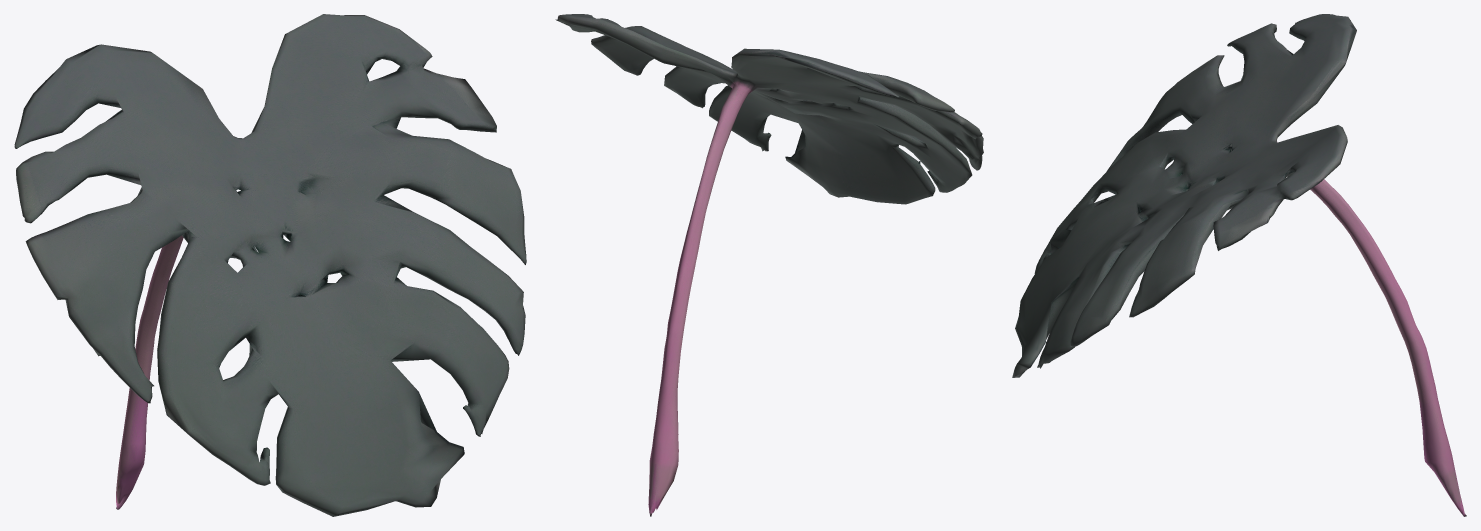
Rendered from mon_charcoal.glb.
The picture shows the model from 3 angles, left to right: view 1: azimuth 30°, elevation 25°; view 2: azimuth 150°, elevation 25°; view 3: azimuth 270°, elevation 25°; orthographic projection. The views are drawn at different scales.
Bounding box in the file's own units: 1.84 × 2 × 1.81.
1 material, 1 textured.
